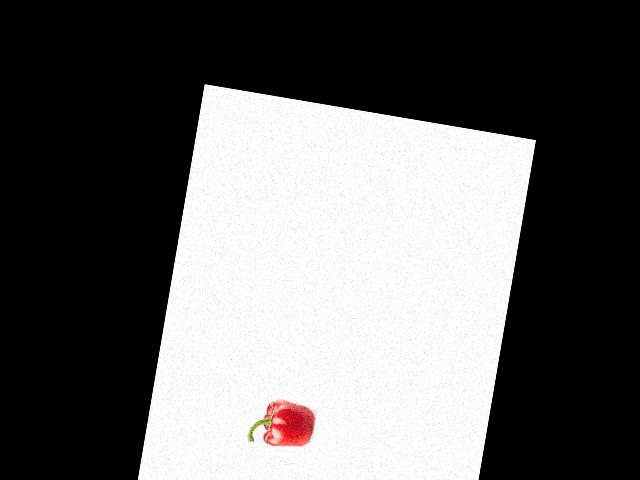bell_pepper: (246, 395, 317, 453)
